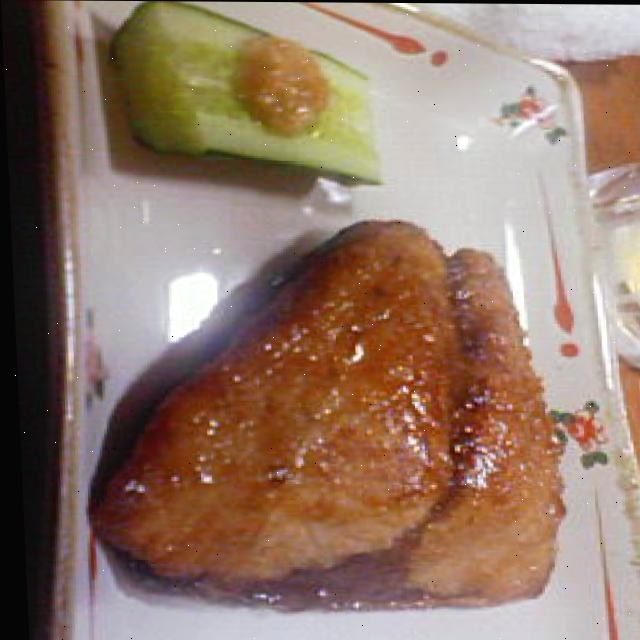熟制海鲜: (68, 215, 586, 631)
